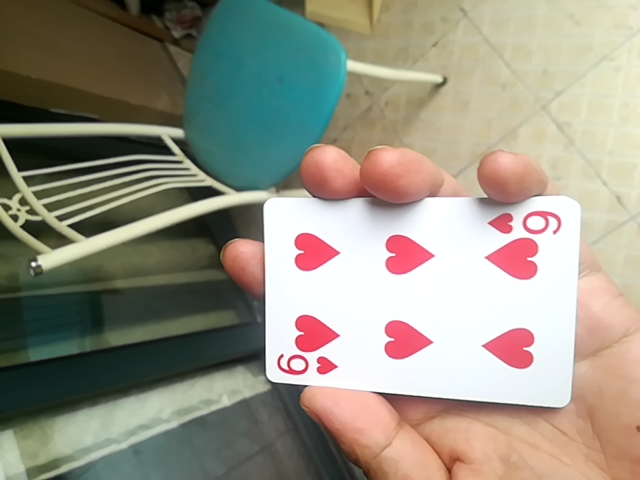hx 6: (260, 188, 588, 408)
